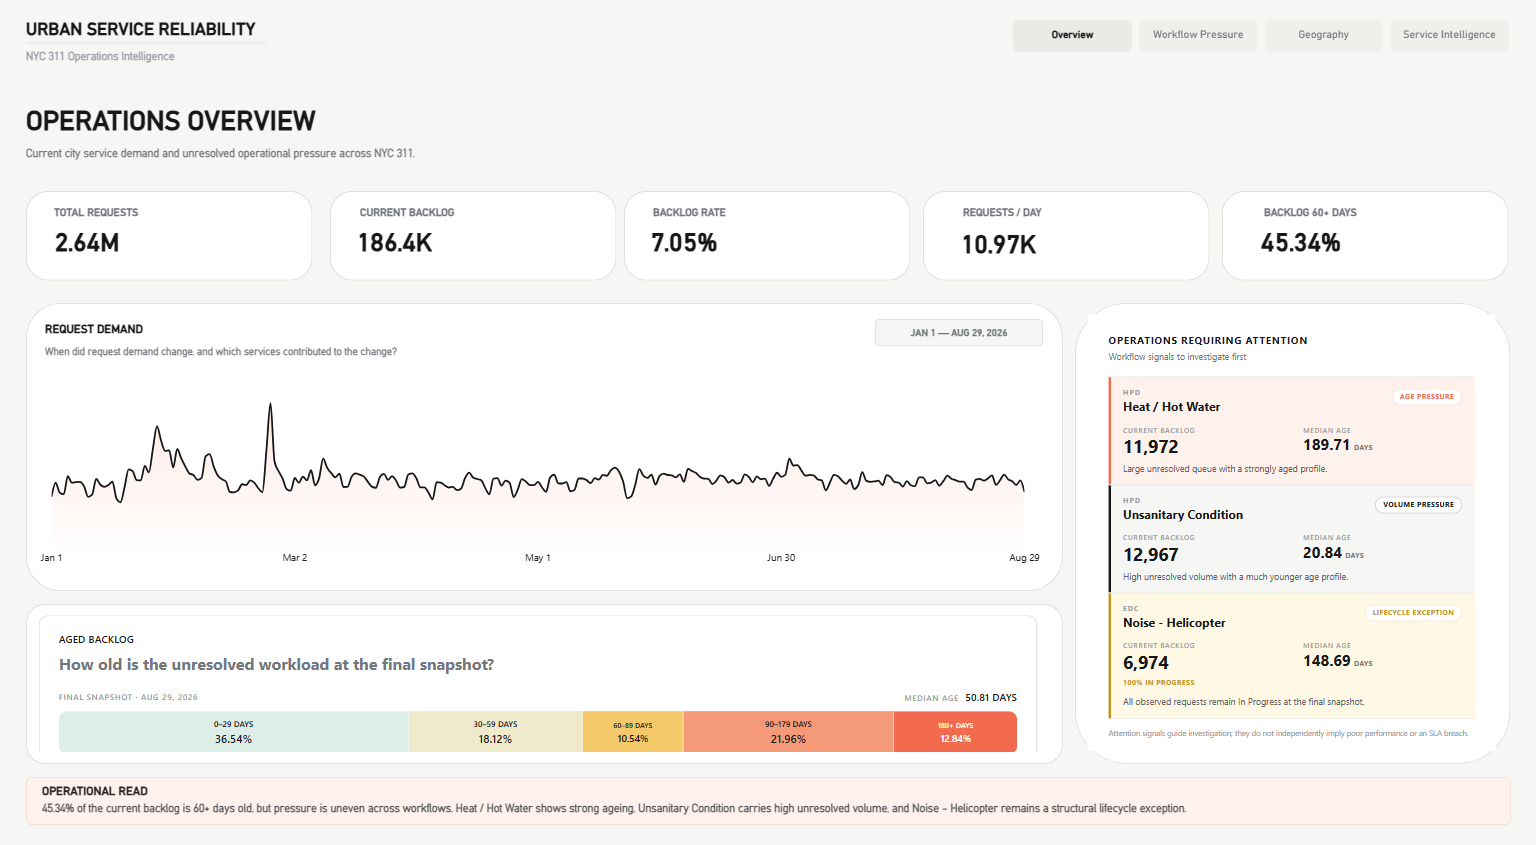

What the dashboard file says about the page in this screenshot:
{"tool":"powerbi","page":{"name":"Overview","canvas":[1920,1080],"ordinal":0},"visuals":[{"type":"textbox","box":[32,25,390,44],"z":0},{"type":"textbox","box":[32,61,300,25],"z":1000},{"type":"shape","box":[32.3,46.6,300.2,16.8],"z":2000},{"type":"pageNavigator","box":[1266.6,25.9,620,40],"z":3000},{"type":"textbox","box":[32,132,600,52],"z":4000},{"type":"textbox","box":[32,182,760,30],"z":5000},{"type":"shape","box":[32,240,358,112],"z":6000},{"type":"shape","box":[412.6,240.2,358,112],"z":7000},{"type":"shape","box":[780,240,358,112],"z":8000},{"type":"shape","box":[1154,240,358,112],"z":9000},{"type":"shape","box":[1528,240,358,112],"z":10000},{"type":"shape","box":[32,380,1296,360],"z":11000},{"type":"shape","box":[32,756,1296,200],"z":12000},{"type":"shape","box":[1344,380,544,576],"z":13000},{"type":"shape","box":[32,972,1856,60],"z":14000},{"type":"cardVisual","fields":{"Data":["Measures (2).Total Requests"]},"box":[52,270,310,66],"z":15000},{"type":"textbox","box":[67.3,256.2,249.7,27.2],"z":16000},{"type":"cardVisual","fields":{"Data":["Measures (2).Current Backlog"]},"box":[430.3,269.7,288.8,66.3],"z":17000},{"type":"textbox","box":[449.4,256.4,250.5,30.9],"z":18000},{"type":"cardVisual","fields":{"Data":["Measures (2).Backlog Rate"]},"box":[797.2,269.7,288.8,66.3],"z":19000},{"type":"textbox","box":[816.3,256.4,250.5,30.9],"z":20000},{"type":"cardVisual","fields":{"Data":["Measures (2).Requests per Day"]},"box":[1184.7,272.6,288.8,66.3],"z":21000},{"type":"cardVisual","fields":{"Data":["Measures (2).Backlog 60+ Share"]},"box":[1560.5,269.7,288.8,66.3],"z":22000},{"type":"textbox","box":[1203.9,256.4,250.5,30.9],"z":23000},{"type":"textbox","box":[1579.6,256.4,250.5,30.9],"z":24000},{"type":"textbox","box":[56,402.3,259.3,25],"z":25000},{"type":"textbox","box":[56,430,620,24],"z":26000},{"type":"actionButton","box":[1094,400,210,34],"z":27000},{"type":"requestDemandVisual641BEB790FD54F0D95F206B727A0F4C2","fields":{"createdDate":["FactServiceDaily.created_date"],"workflowId":["FactServiceDaily.WorkflowID"],"agency":["DimWorkflow.agency"],"service":["DimWorkflow.service_problem"],"requestCount":["Sum(FactServiceDaily.request_count)"]},"box":[32.4,453.8,1296.7,275.5],"z":28000},{"type":"agedBacklogVisual8833DBBA8CEE4AF3B260E41073E5C4FD","fields":{"totalBacklog":["Measures (2).Current Backlog"],"medianAge":["Measures (2).Median Backlog Age"],"backlog30Plus":["Measures (2).Backlog 30+ Share"],"backlog60Plus":["Measures (2).Backlog 60+ Share"],"backlog90Plus":["Measures (2).Backlog 90+ Share"],"backlog180Plus":["Measures (2).Backlog 180+ Share"]},"box":[32,756,1296,200.9],"z":29000},{"type":"textbox","box":[52.4,979.7,150,22],"z":31000},{"type":"textbox","box":[52.4,995.7,1547.4,36.4],"z":32000},{"type":"textbox","box":[52.4,1001.5,1579.4,33.5],"z":32001},{"type":"operationsAttentionVisual39D4AE0560114B3E85E88B9D266E8A97","box":[1344.3,380.4,542.1,575.7],"z":32002}]}

Visuals, with their boxes in screenshot pixels (x1, y1, x2, y2), scaled from the page's 1920x1080 canvas onto the 1536x845 screenshot:
textbox: x1=26 y1=20 x2=338 y2=54
textbox: x1=26 y1=48 x2=266 y2=67
shape: x1=26 y1=36 x2=266 y2=50
pageNavigator: x1=1013 y1=20 x2=1509 y2=52
textbox: x1=26 y1=103 x2=506 y2=144
textbox: x1=26 y1=142 x2=634 y2=166
shape: x1=26 y1=188 x2=312 y2=275
shape: x1=330 y1=188 x2=616 y2=276
shape: x1=624 y1=188 x2=910 y2=275
shape: x1=923 y1=188 x2=1210 y2=275
shape: x1=1222 y1=188 x2=1509 y2=275
shape: x1=26 y1=297 x2=1062 y2=579
shape: x1=26 y1=592 x2=1062 y2=748
shape: x1=1075 y1=297 x2=1510 y2=748
shape: x1=26 y1=760 x2=1510 y2=807
cardVisual - Measures (2).Total Requests: x1=42 y1=211 x2=290 y2=263
textbox: x1=54 y1=200 x2=254 y2=222
cardVisual - Measures (2).Current Backlog: x1=344 y1=211 x2=575 y2=263
textbox: x1=360 y1=201 x2=560 y2=225
cardVisual - Measures (2).Backlog Rate: x1=638 y1=211 x2=869 y2=263
textbox: x1=653 y1=201 x2=853 y2=225
cardVisual - Measures (2).Requests per Day: x1=948 y1=213 x2=1179 y2=265
cardVisual - Measures (2).Backlog 60+ Share: x1=1248 y1=211 x2=1479 y2=263
textbox: x1=963 y1=201 x2=1164 y2=225
textbox: x1=1264 y1=201 x2=1464 y2=225
textbox: x1=45 y1=315 x2=252 y2=334
textbox: x1=45 y1=336 x2=541 y2=355
actionButton: x1=875 y1=313 x2=1043 y2=340
requestDemandVisual641BEB790FD54F0D95F206B727A0F4C2 - FactServiceDaily.created_date x FactServiceDaily.WorkflowID: x1=26 y1=355 x2=1063 y2=571
agedBacklogVisual8833DBBA8CEE4AF3B260E41073E5C4FD - Measures (2).Current Backlog x Measures (2).Median Backlog Age: x1=26 y1=592 x2=1062 y2=749
textbox: x1=42 y1=767 x2=162 y2=784
textbox: x1=42 y1=779 x2=1280 y2=808
textbox: x1=42 y1=784 x2=1305 y2=810
operationsAttentionVisual39D4AE0560114B3E85E88B9D266E8A97: x1=1075 y1=298 x2=1509 y2=748
